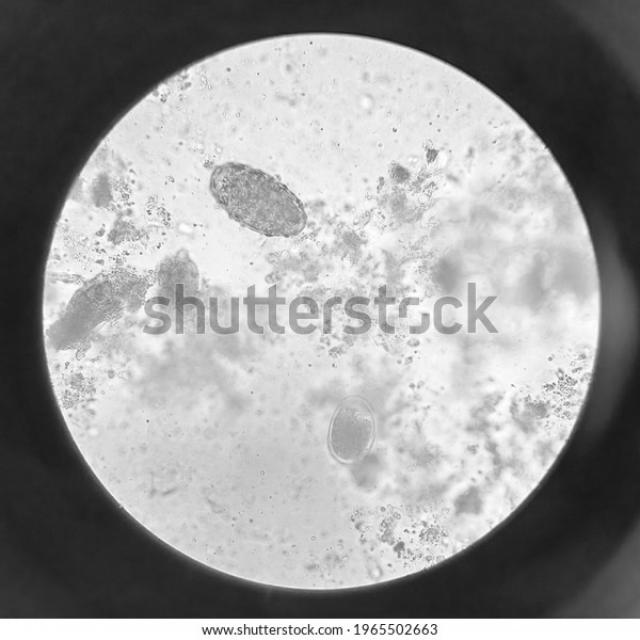Ascaris Lumbricoides: (196, 150, 316, 245)
